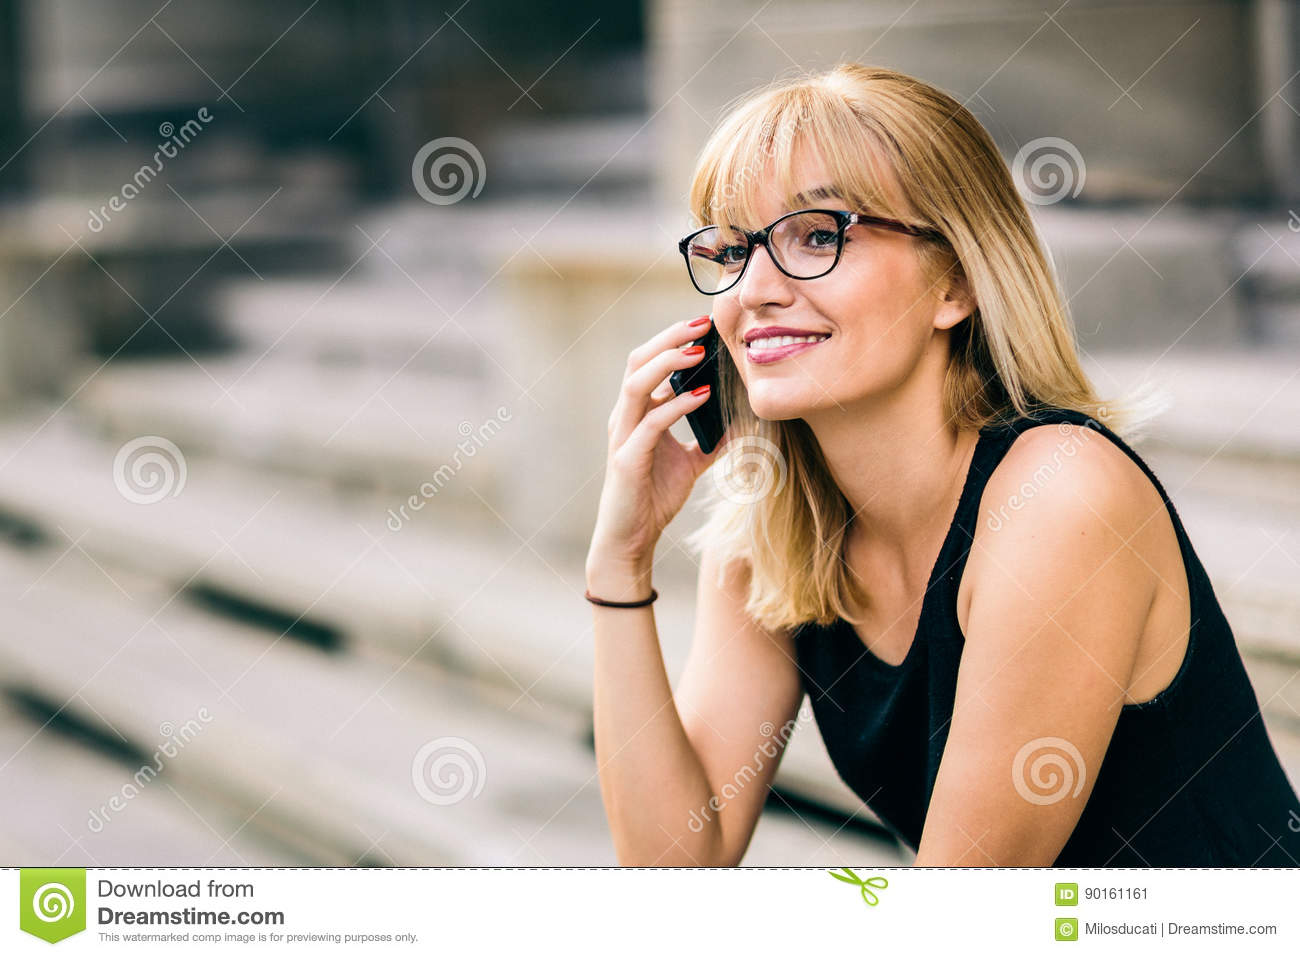phone: (674, 311, 743, 467)
talk: (591, 179, 872, 558)
